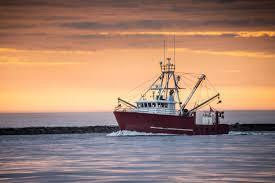Ship: (112, 39, 233, 138)
